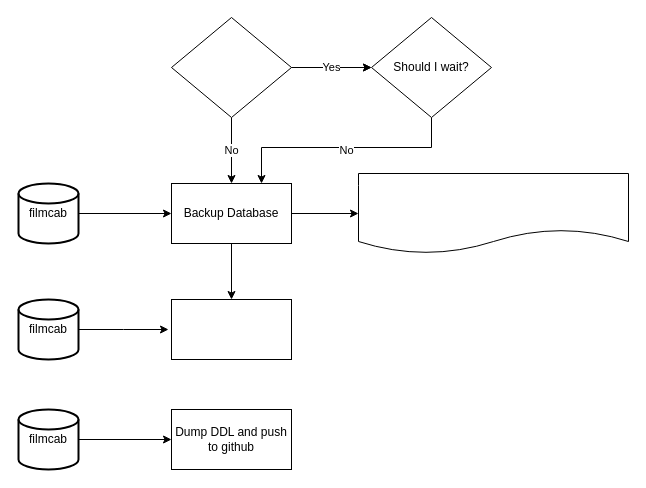
The diagram is 646 pixels wide and 488 high, and some of its shapes have lost their labels. The shapes that lost their labels are listed below. From the top down, each one's centre as x and y in pixels, then its label:
(231,67): After Hours still running?
(493,213): C:\filmcab backups\dump-filmcab-yyyymmddhhmmss
(231,329): Vacuum Database and indexes
